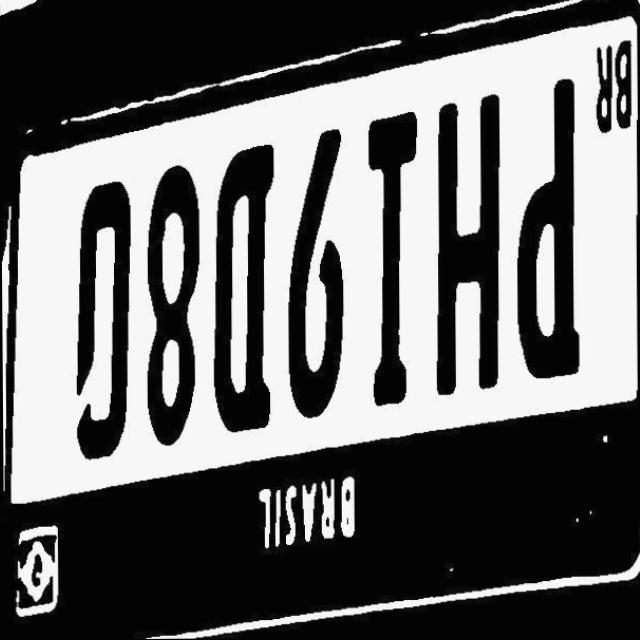0: (61, 149, 130, 450)
8: (130, 153, 201, 434)
9: (271, 116, 348, 410)
d: (196, 133, 278, 418)
h: (418, 85, 512, 388)
i: (350, 101, 423, 399)
p: (514, 70, 585, 379)
